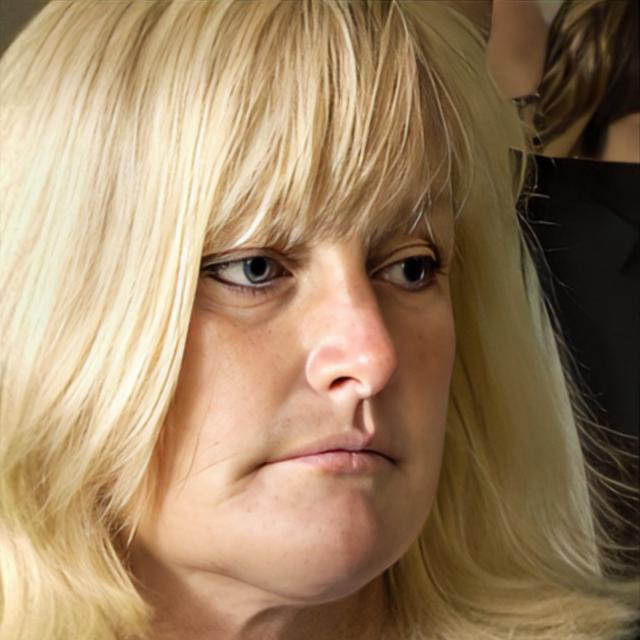neutral: (98, 73, 459, 606)
